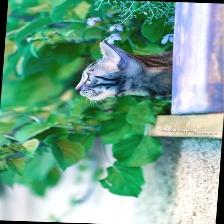kedo: (75, 41, 174, 101)
